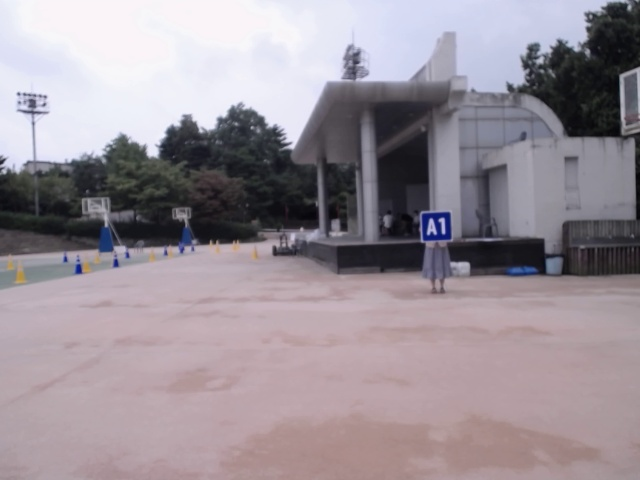delivery_a1: (421, 212, 453, 242)
